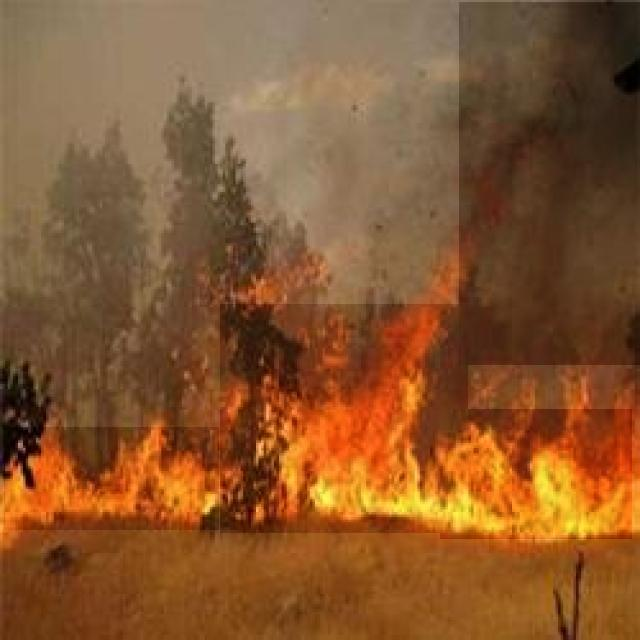Fire: (220, 304, 468, 533), (440, 409, 632, 539), (4, 427, 219, 530)
Smoke: (459, 2, 640, 365)
